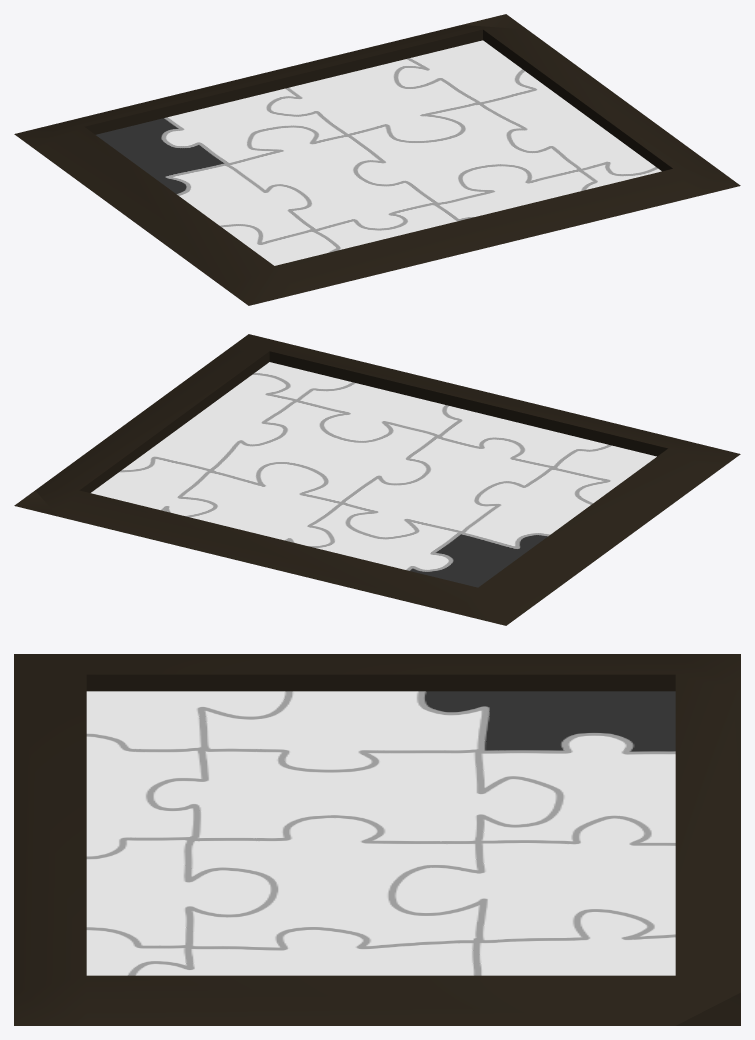
The model's file is Painting9.fbx.
The picture shows the model from 3 angles, top to bottom: view 1: azimuth 30°, elevation 25°; view 2: azimuth 150°, elevation 25°; view 3: azimuth 270°, elevation 25°; orthographic projection. The views are drawn at different scales.
Parts seen in each view (by area): view 1: pPlane1, pCube1; view 2: pPlane1, pCube1; view 3: pPlane1, pCube1.
Part boxes in pixels (box(x1,y1,x2,y2)): pPlane1: box(96, 40, 661, 265); pCube1: box(14, 14, 740, 305); pPlane1: box(91, 362, 656, 587); pCube1: box(14, 334, 740, 625); pPlane1: box(86, 691, 675, 975); pCube1: box(14, 654, 740, 1025).
Size of the model in its own units: 8.51 by 0.3565 by 7.03.
Materials: 2 (1 with a texture image).
